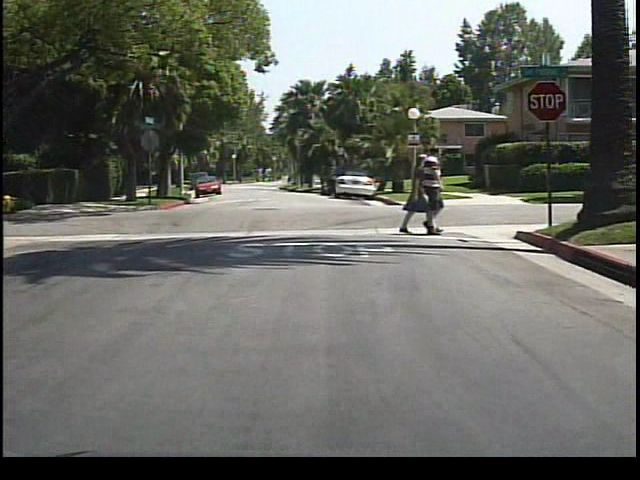person: (421, 146, 455, 237), (399, 151, 428, 240)
